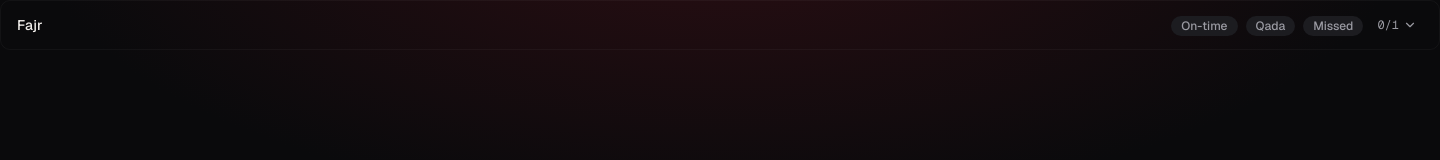
Test: PrayerRow — the sunnah list opened by marking on time closes itself › opened by On-time, then the user touches the row toggle: it is theirs now and stays open
The image size is (1440, 160).
Step 1. Click the button "On-time" → (1204, 25), box [1171,13,1238,37]
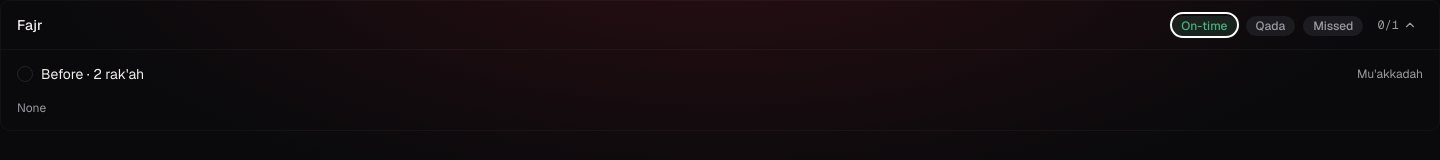
Step 2. Click the button named "sunnah for fajr" → (1397, 25), box [1371,13,1423,37]
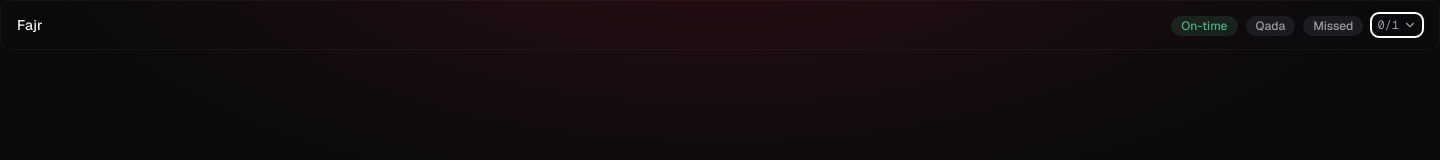
Step 3. Click the button named "sunnah for fajr" → (1397, 25), box [1371,13,1423,37]
Wait 10000 ms
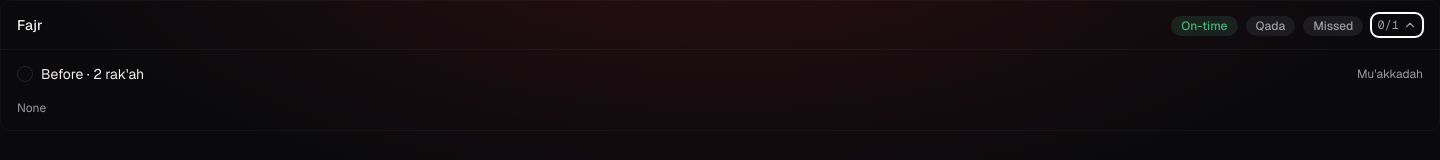
Check: the button "Before · 2 rak'ah Mu'akkadah" is shown, box [9,58,1431,90]
